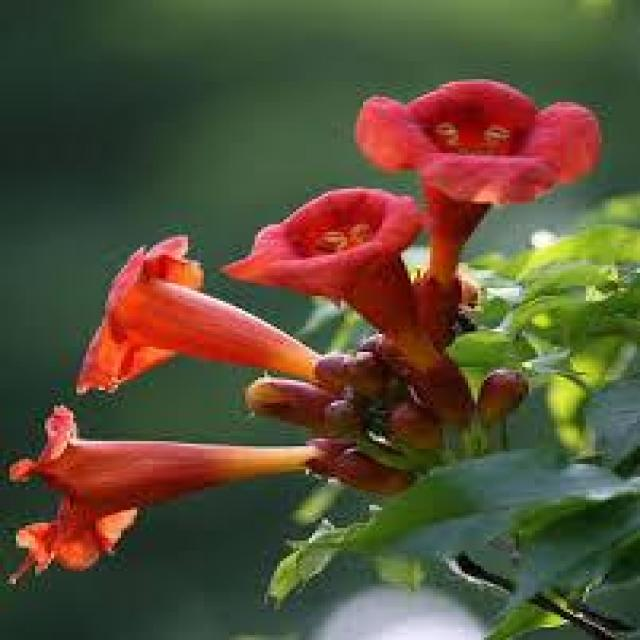organic waste: (22, 410, 338, 572), (60, 238, 354, 410), (346, 65, 606, 210), (201, 185, 433, 312)
